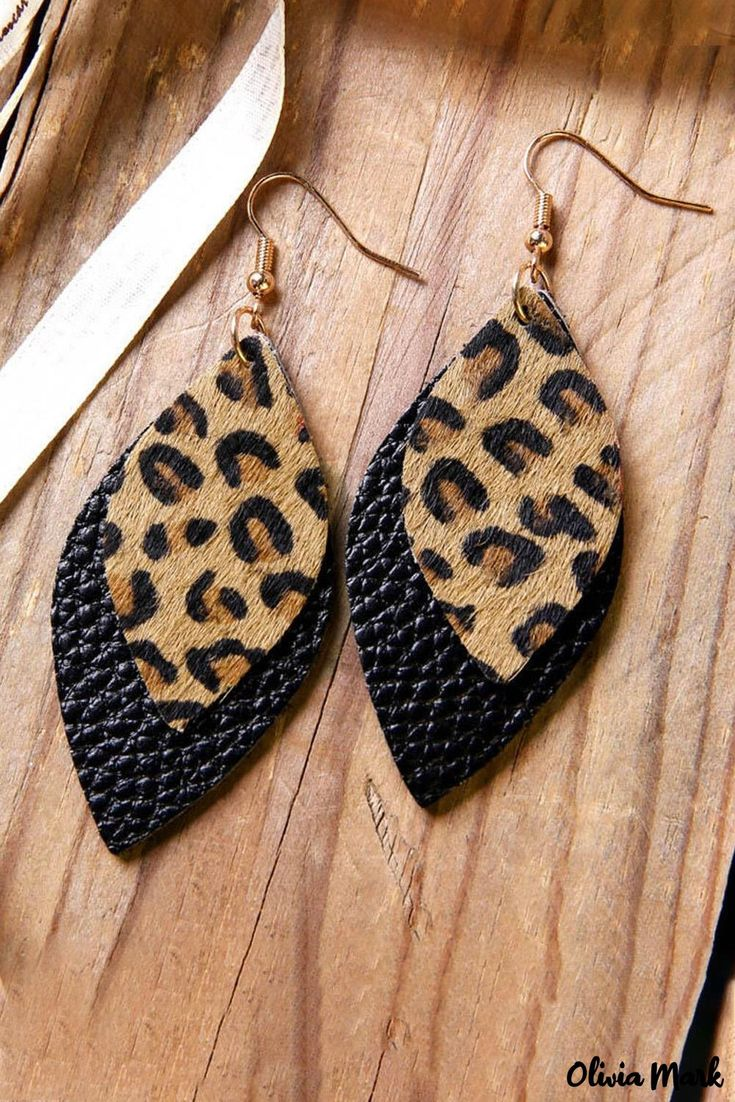cuero: (51, 356, 627, 851)
